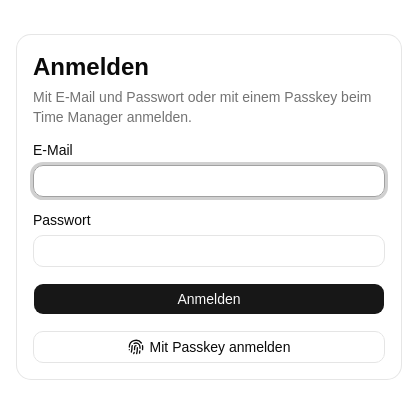
Scenario: Anmeldung › zeigt bei falschem Passwort die Meldung des Servers
In the field labelled "E-Mail": x=209, y=181 [33,165,385,197], type "test@example.com"
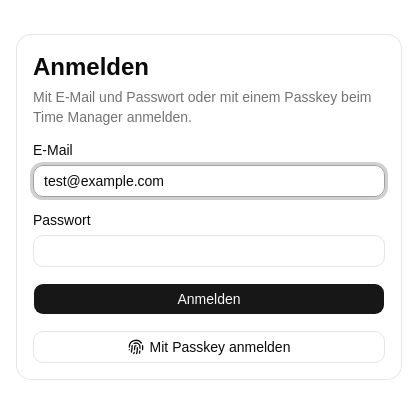
In the password field labelled "Passwort": x=209, y=251 [33,235,385,267], type "falsch"
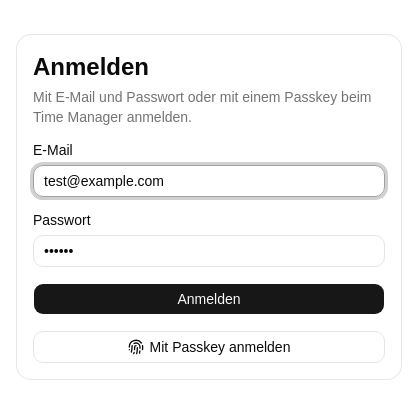
Click the button "Anmelden": x=209, y=299 [33,283,385,315]
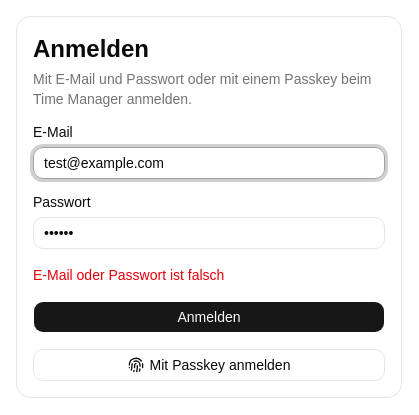
Now the message reads "E-Mail oder Passwort ist falsch", box [33,267,224,283]
